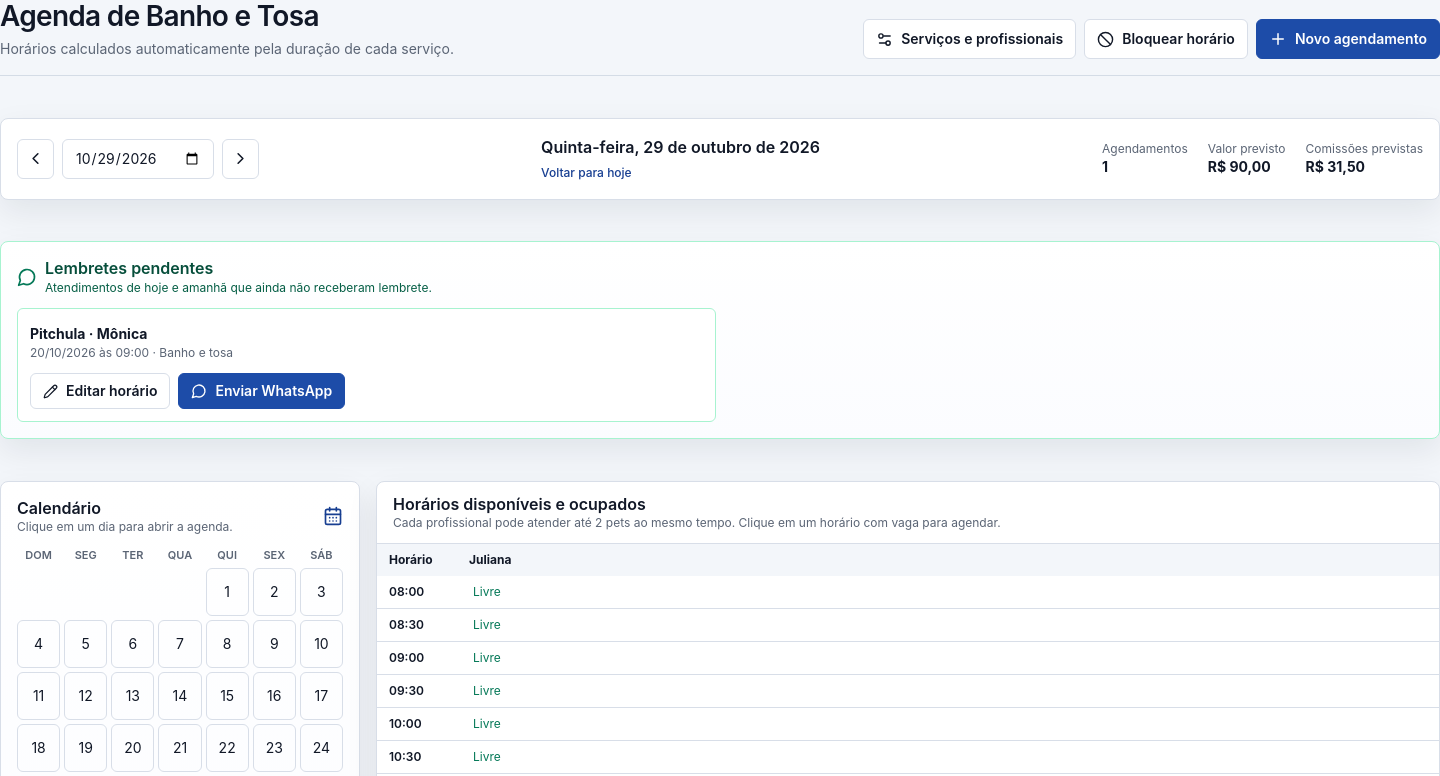
comissões na agenda › apresenta o erro de percentual antes de enviar
Click the button "Serviços e profissionais".
click(970, 39)  # box x1=863 y1=19 x2=1076 y2=59
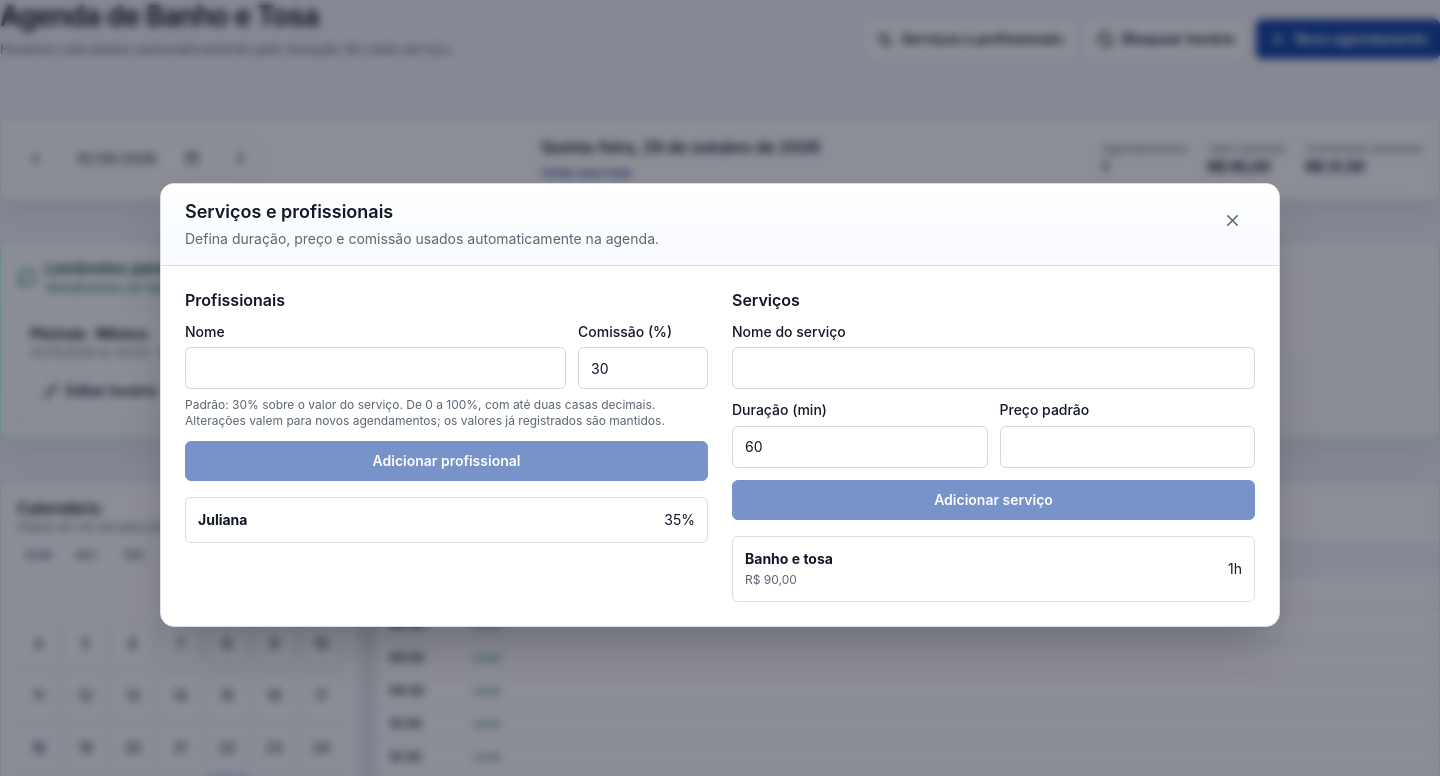
Type "Carla" into the field labelled "Nome".
click(376, 368); type("Carla")  # box x1=185 y1=347 x2=566 y2=389
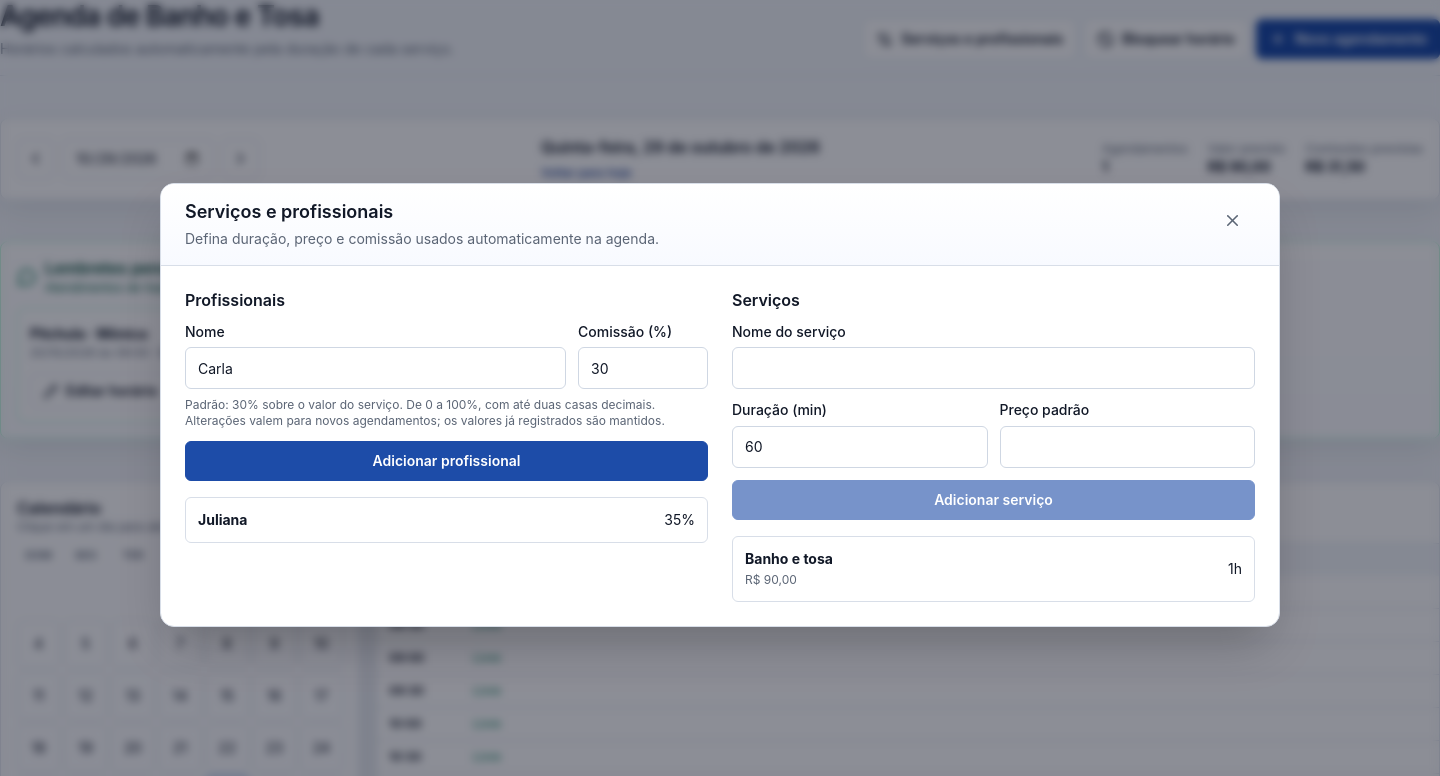
Type "101" into the field labelled "Comissão (%)".
click(643, 368); type("101")  # box x1=578 y1=347 x2=708 y2=389
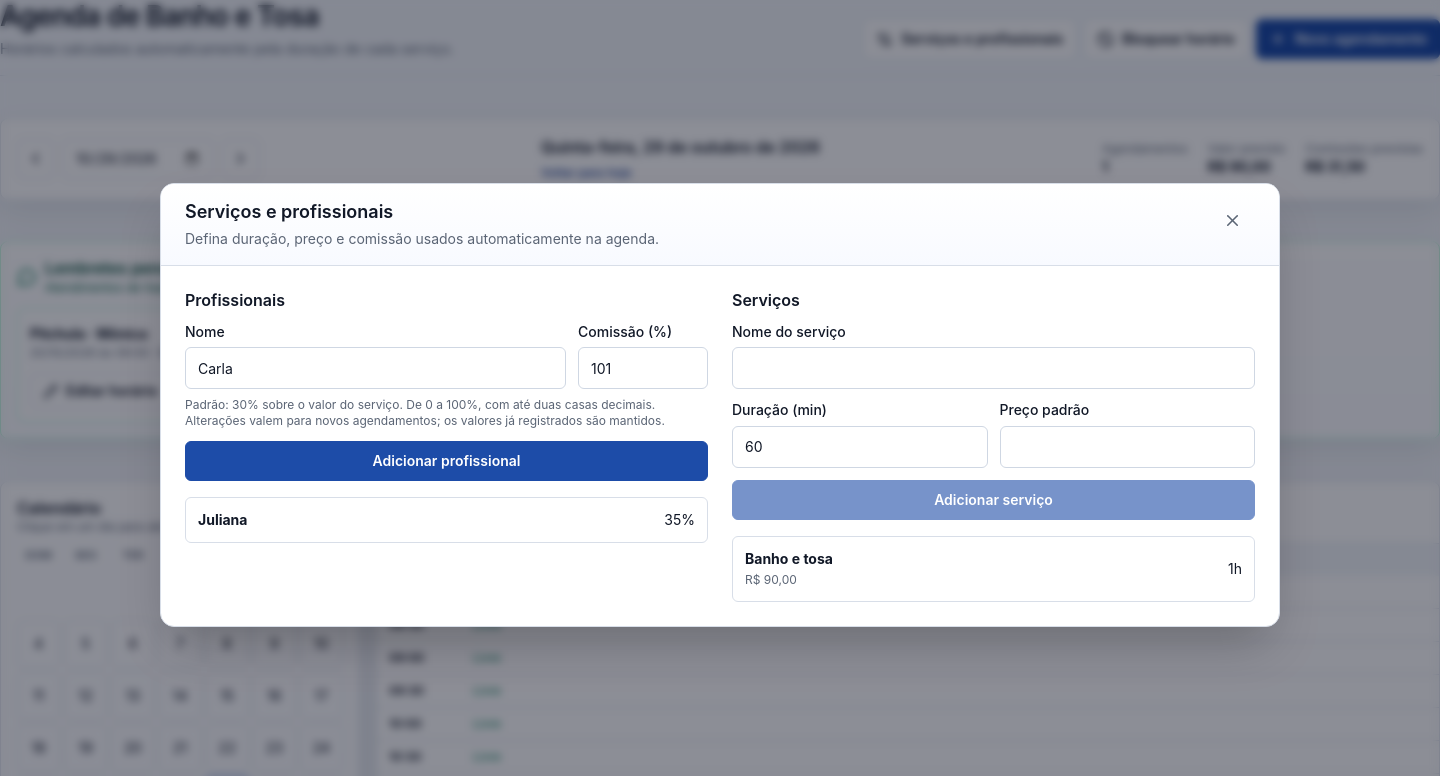
Click the button "Adicionar profissional".
click(446, 461)  # box x1=185 y1=441 x2=708 y2=481
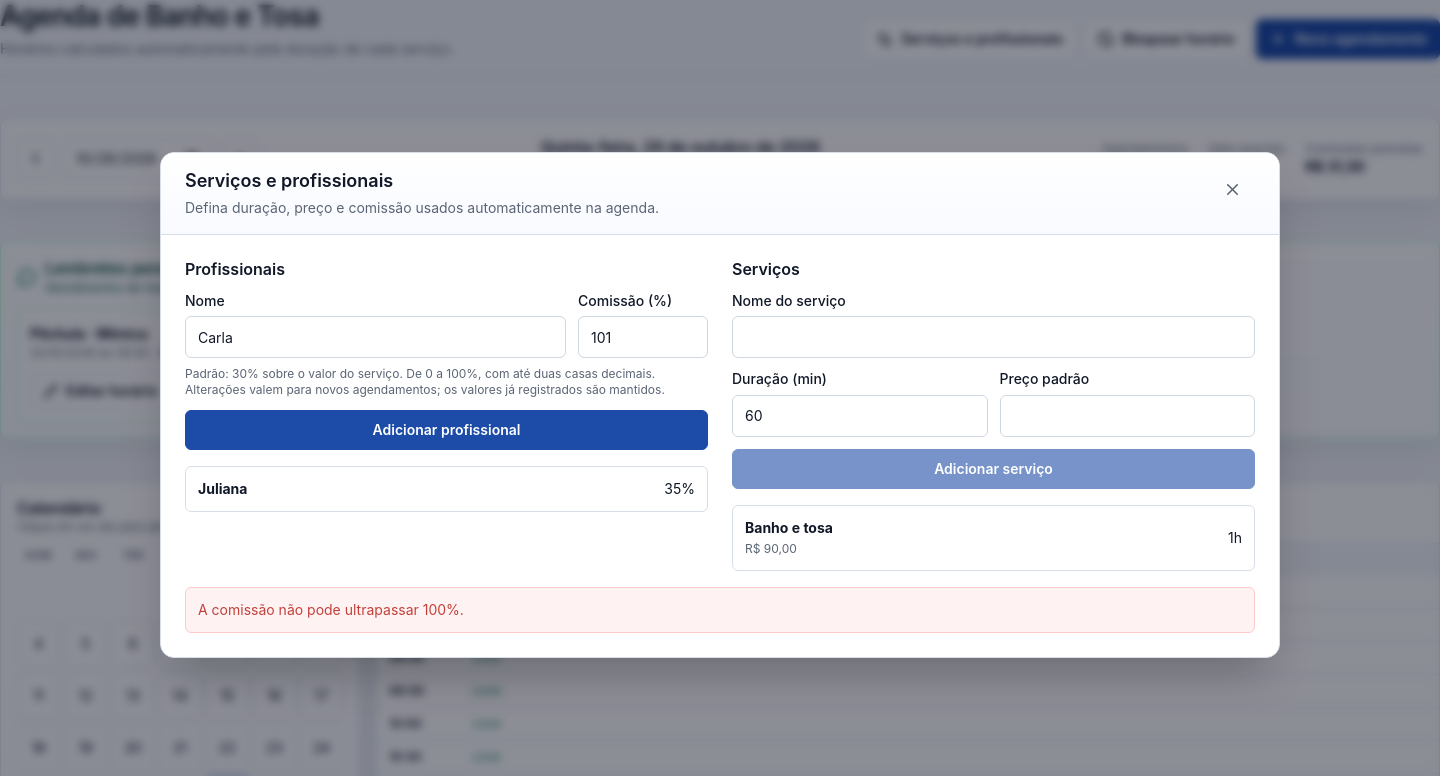
Now the text "A comissão não pode ultrapassar 100%." is shown, box x1=185 y1=587 x2=1255 y2=633
